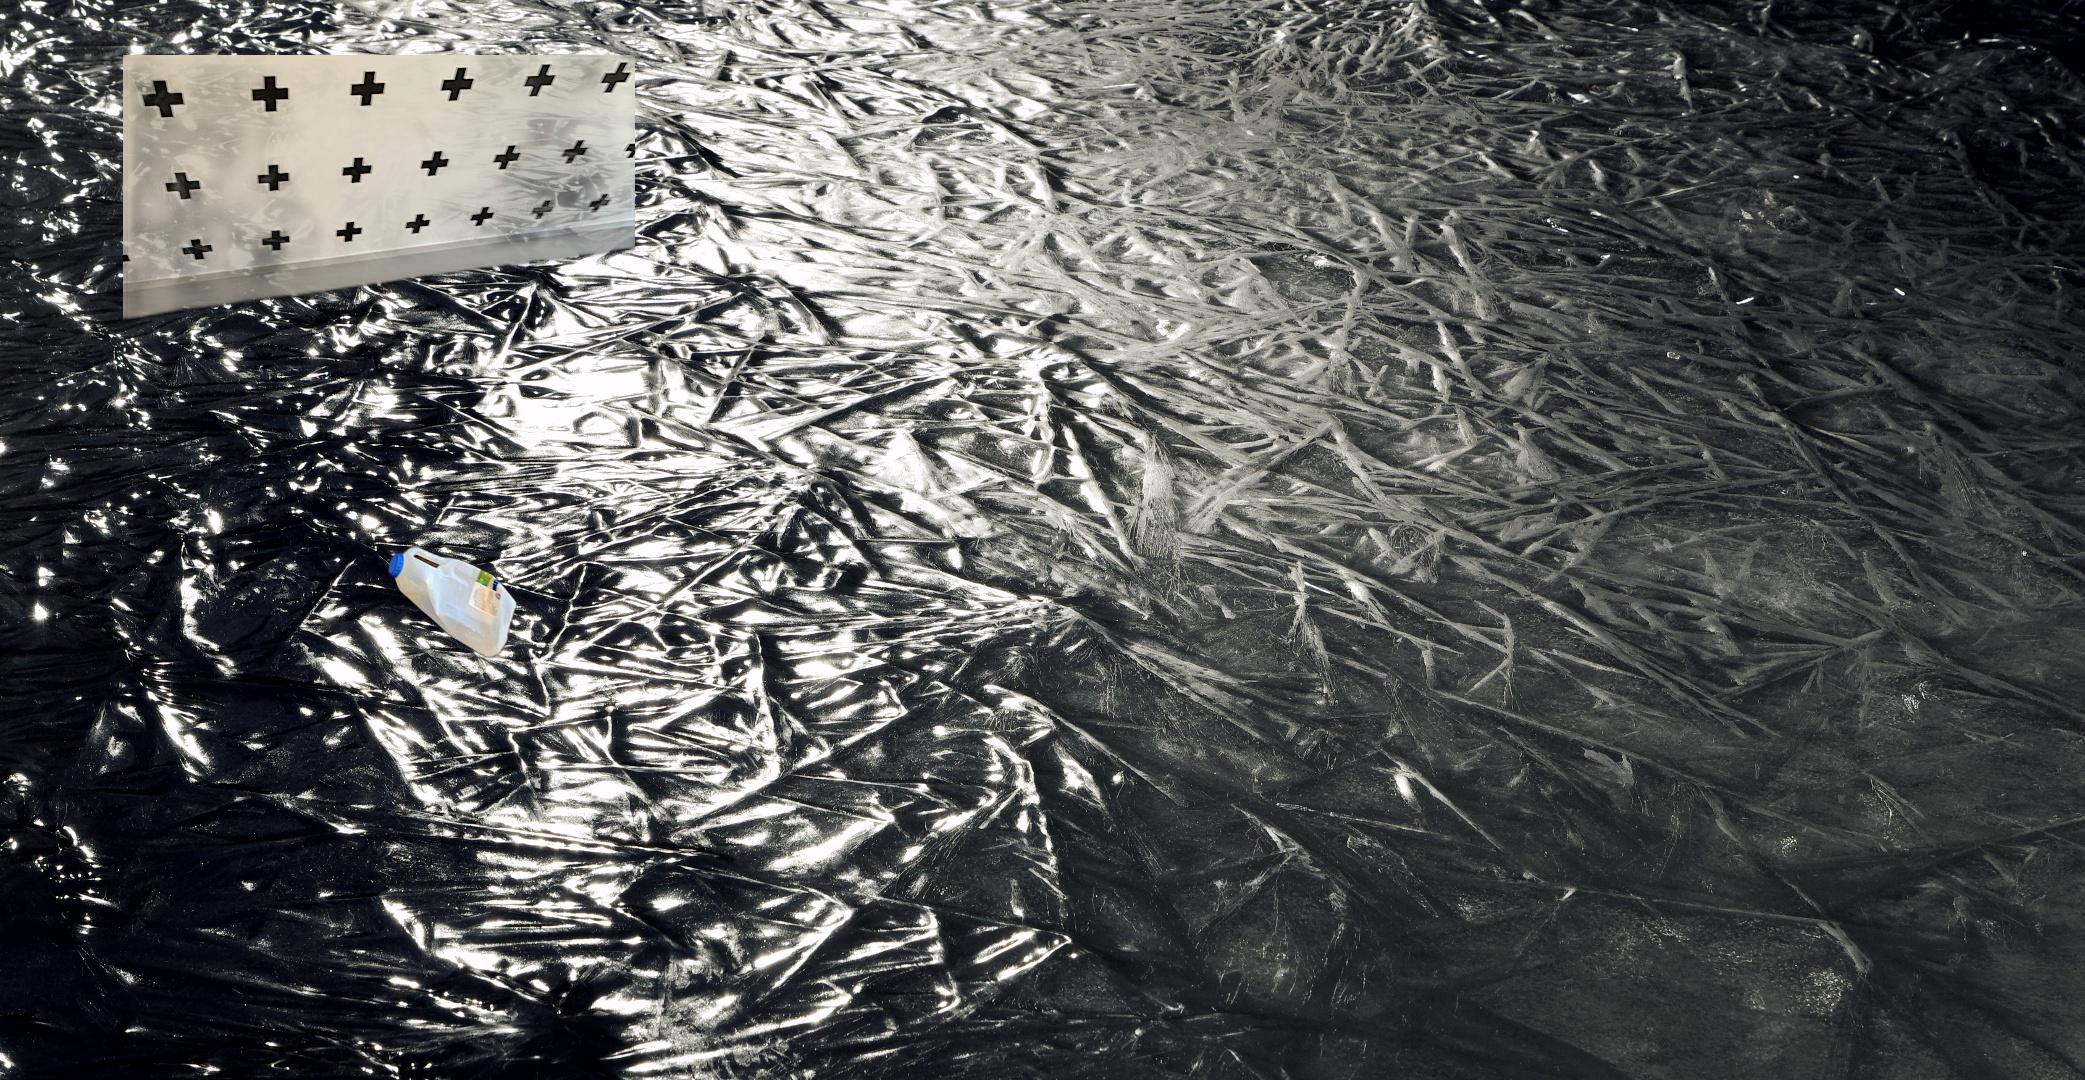plastic-bottles: (123, 55, 635, 664)
